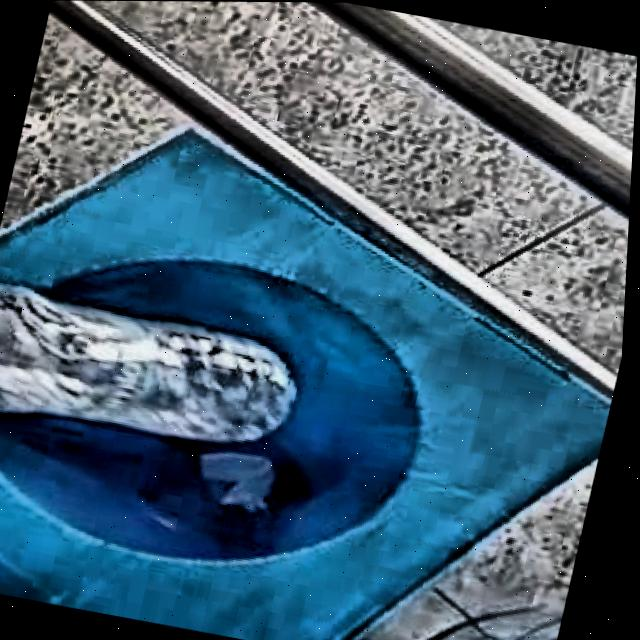plastic: (0, 286, 299, 445)
